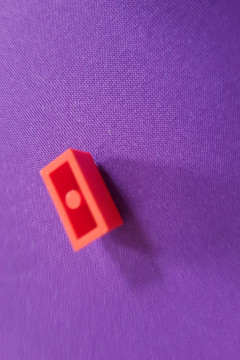1x2 red: (40, 147, 123, 253)
